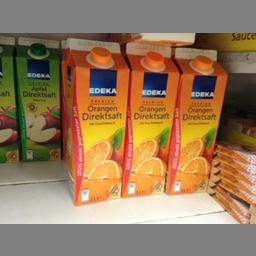juice: (64, 36, 128, 204), (122, 39, 180, 198), (168, 46, 227, 194), (14, 33, 60, 161)
